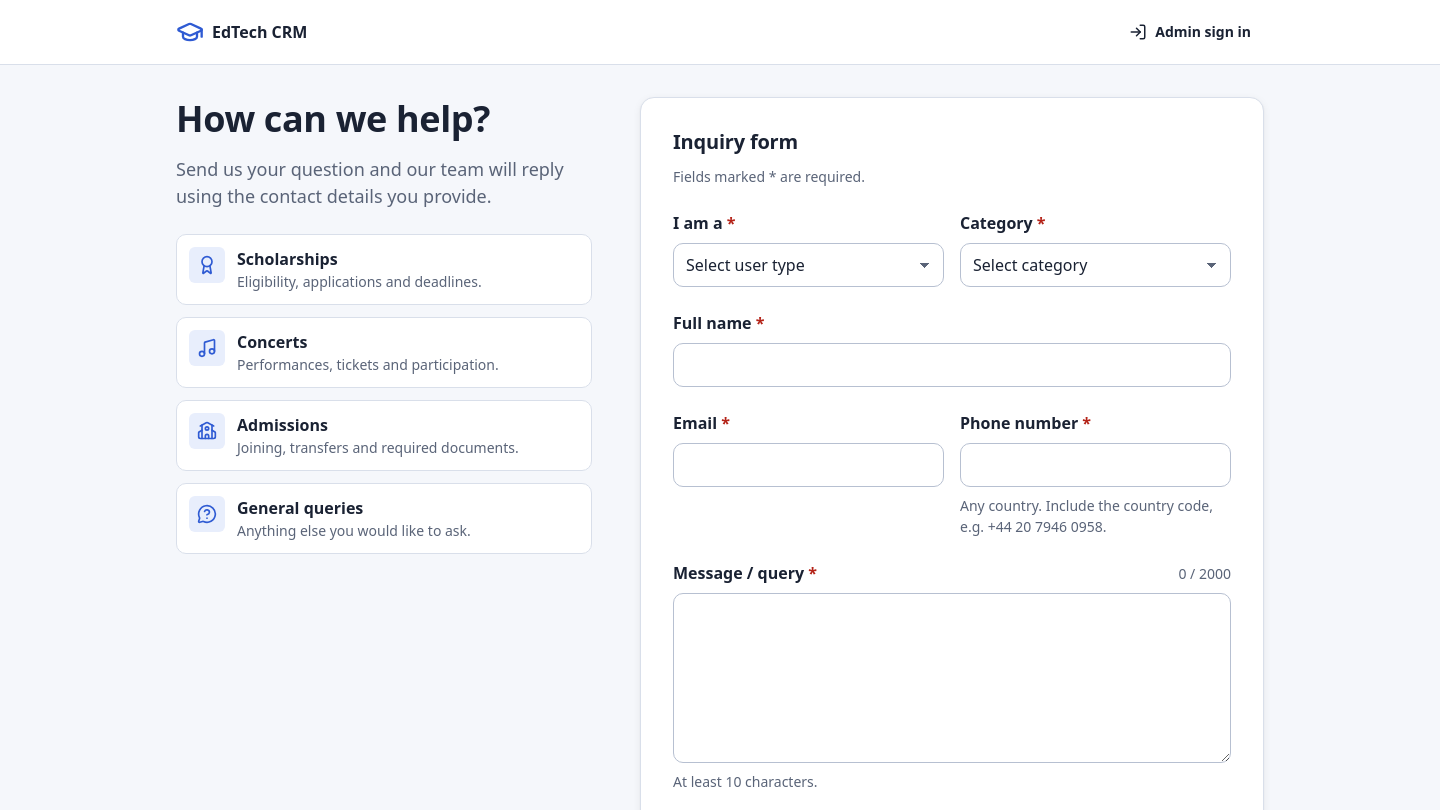
Test: public inquiry form › keeps the values and explains when saving fails
Select "Parent" in the dropdown labelled "I am a *": x=808, y=265 [673,243,944,287]
Select "Admission" in the dropdown labelled "Category *": x=1096, y=265 [960,243,1231,287]
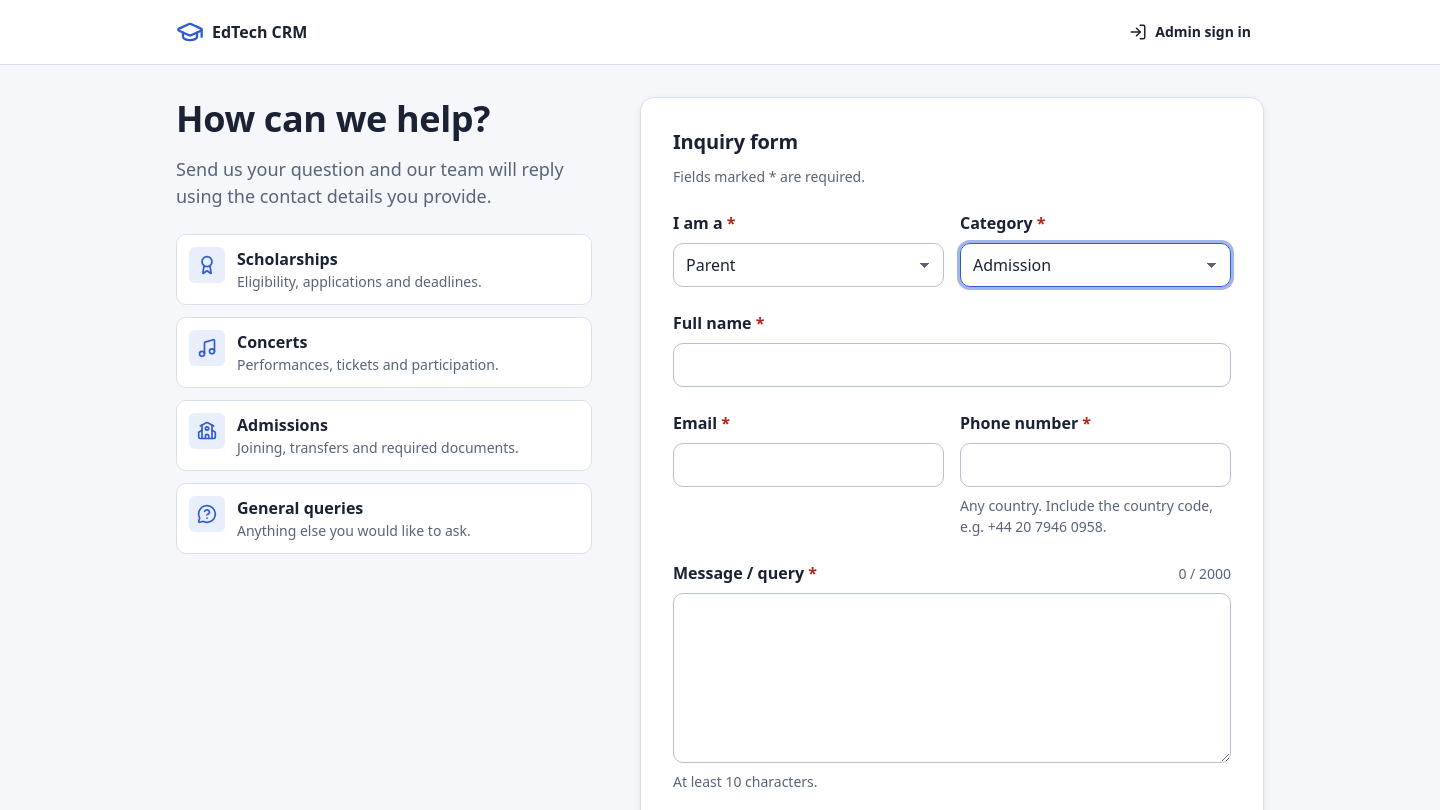
In the field labelled "Full name *": x=952, y=365 [673,343,1231,387], type "Asha Verma"
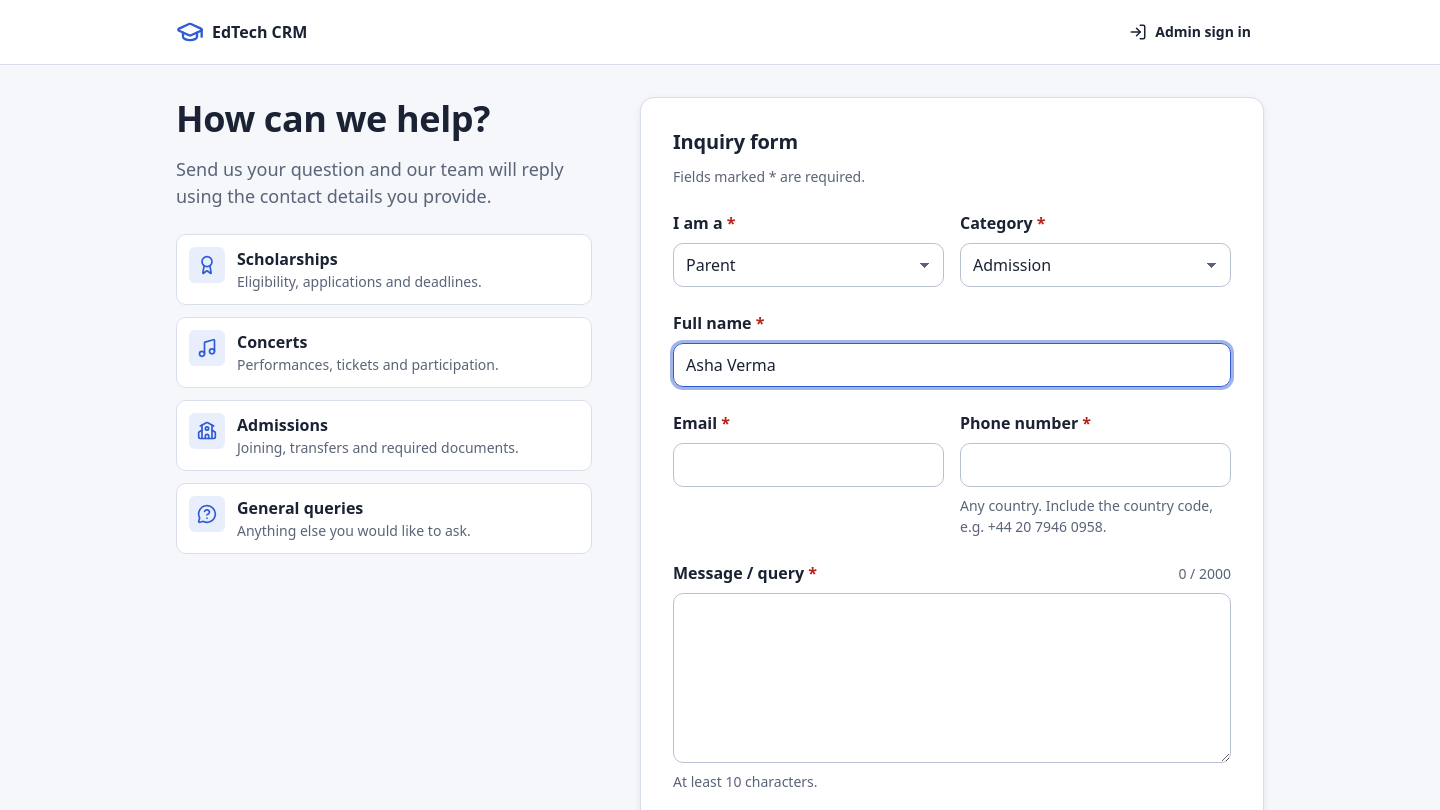
In the field labelled "Email *": x=808, y=465 [673,443,944,487], type "asha@example.com"
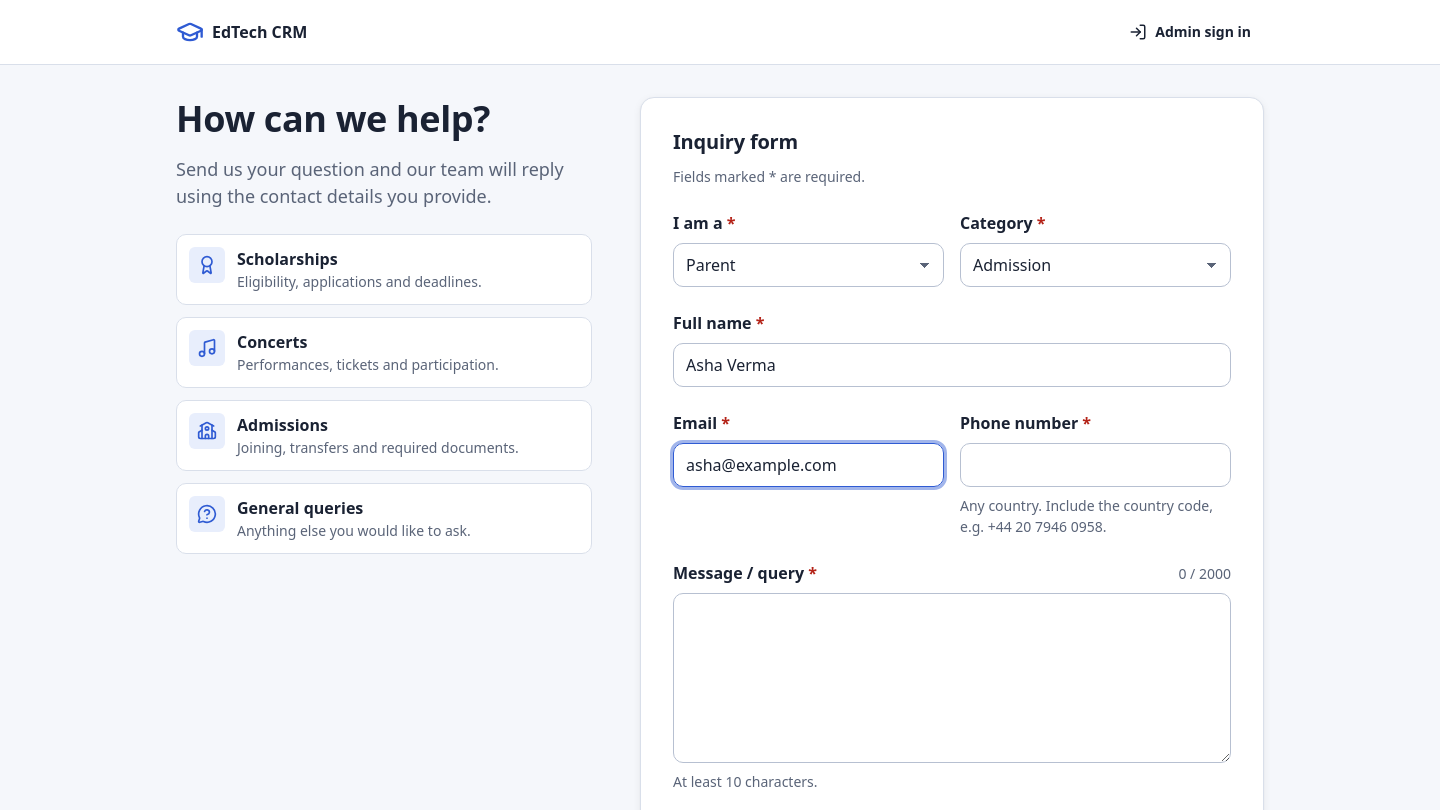
In the field labelled "Phone number *": x=1096, y=465 [960,443,1231,487], type "+91 98765 43210"
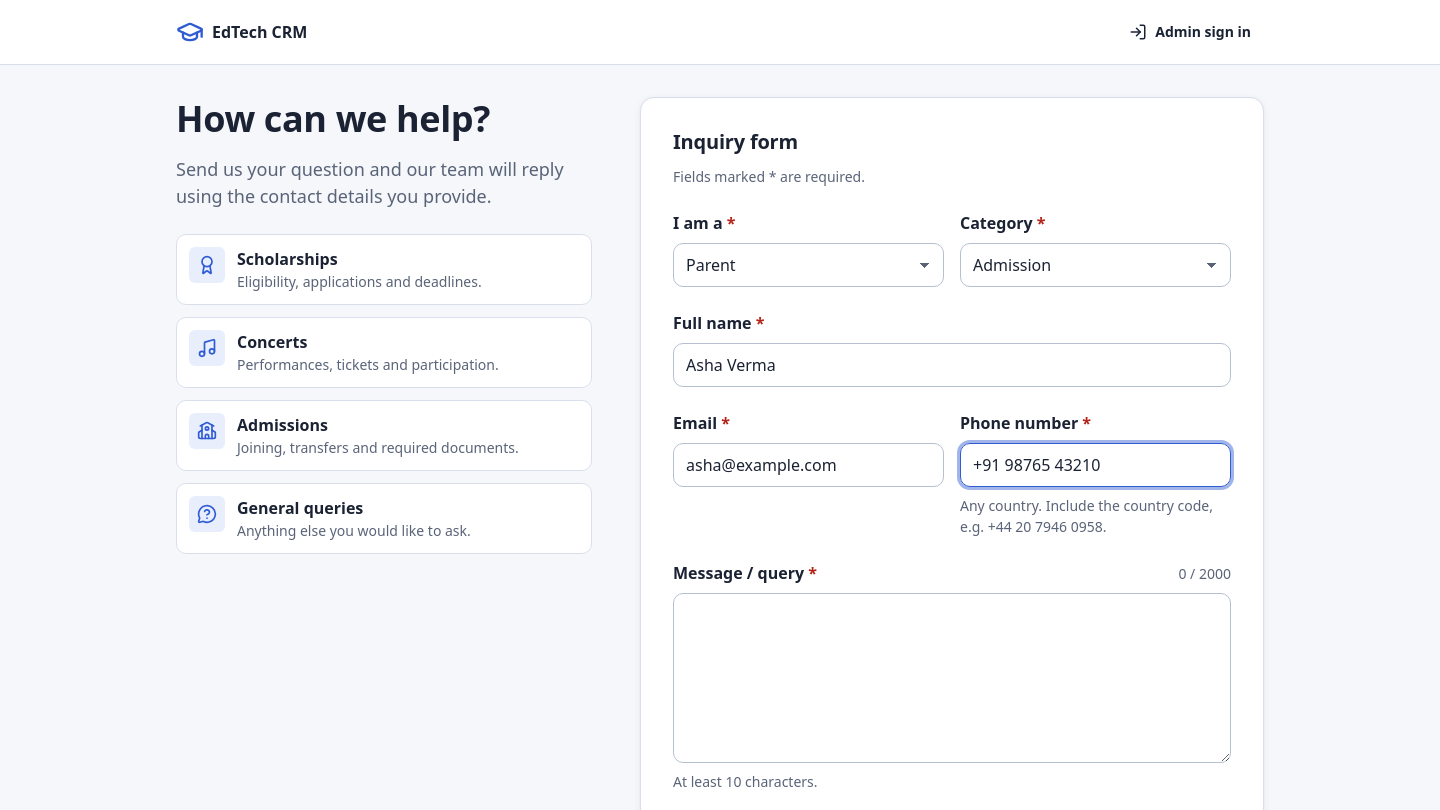
In the text box labelled "Message / query *": x=952, y=678 [673,593,1231,763], type "When does admission open for grade 6?"
(page scrolled)
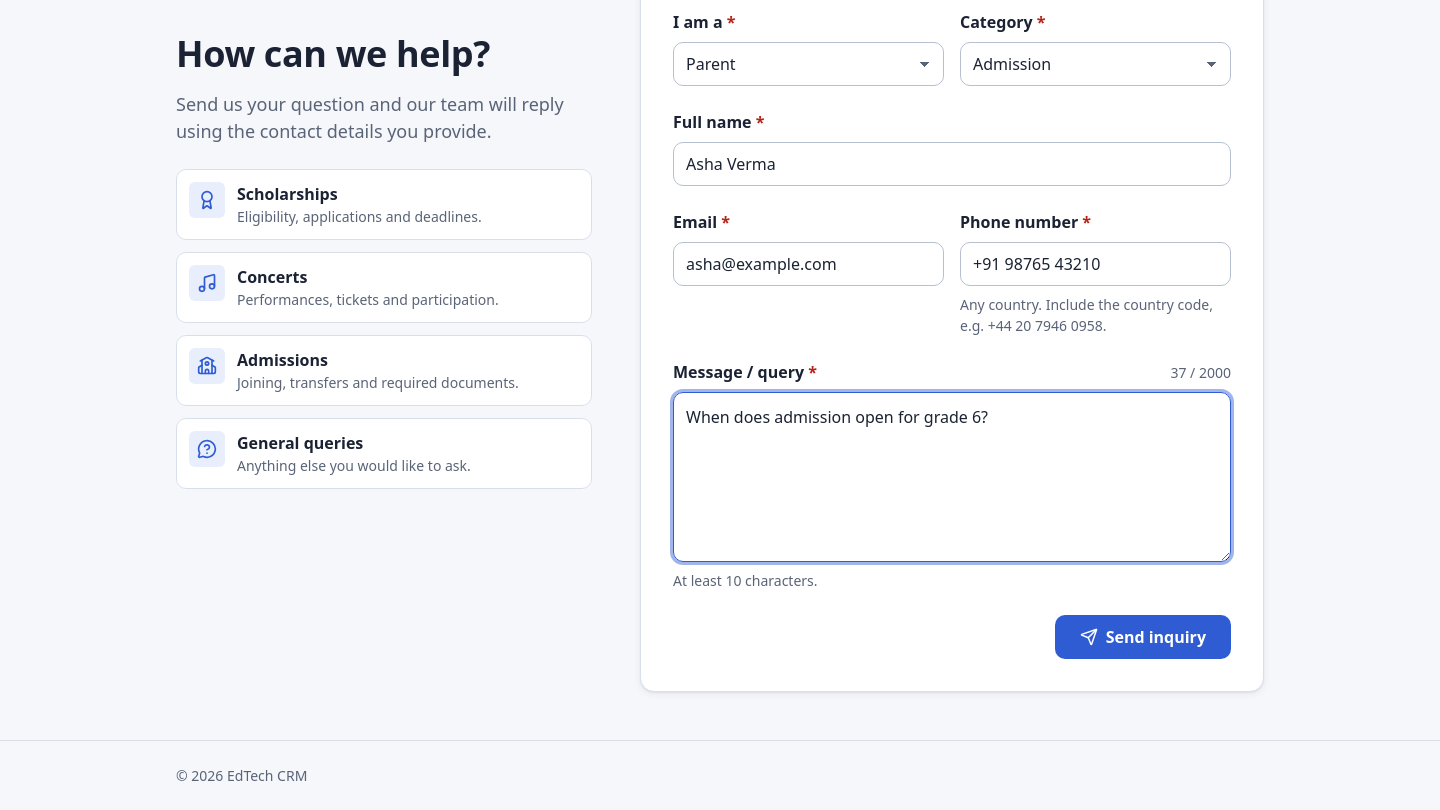
Click the button "Send inquiry": x=1143, y=637 [1055,615,1231,659]
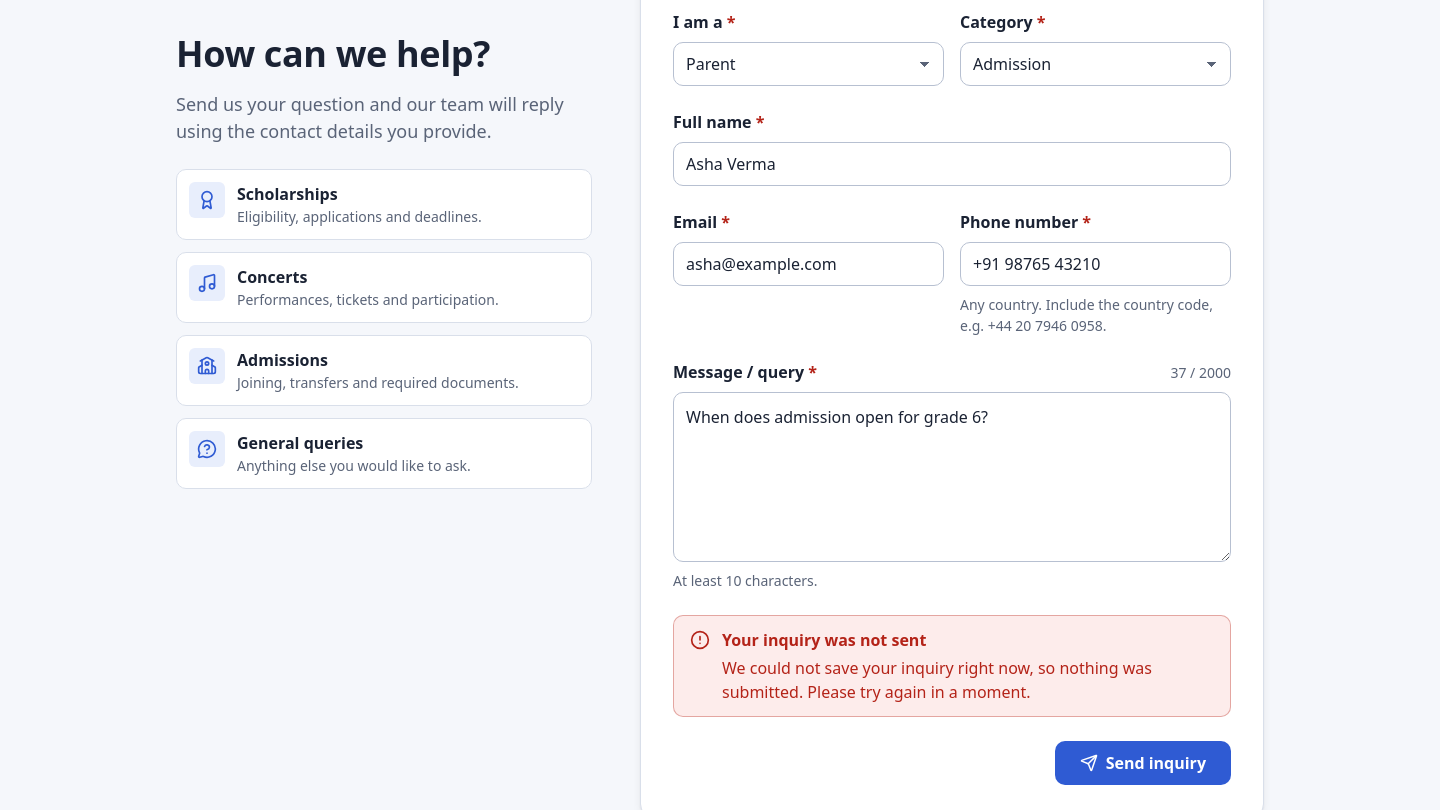
Expected: the button "Send inquiry" is enabled, [1055,741,1231,785]
Now the message shows "Your inquiry was not sent", box [722,629,926,651]
Now the message shows "nothing was submitted", box [722,657,1152,703]
